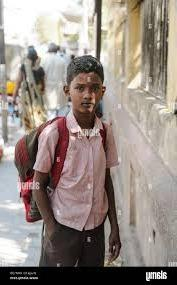Human: (26, 32, 130, 269)
